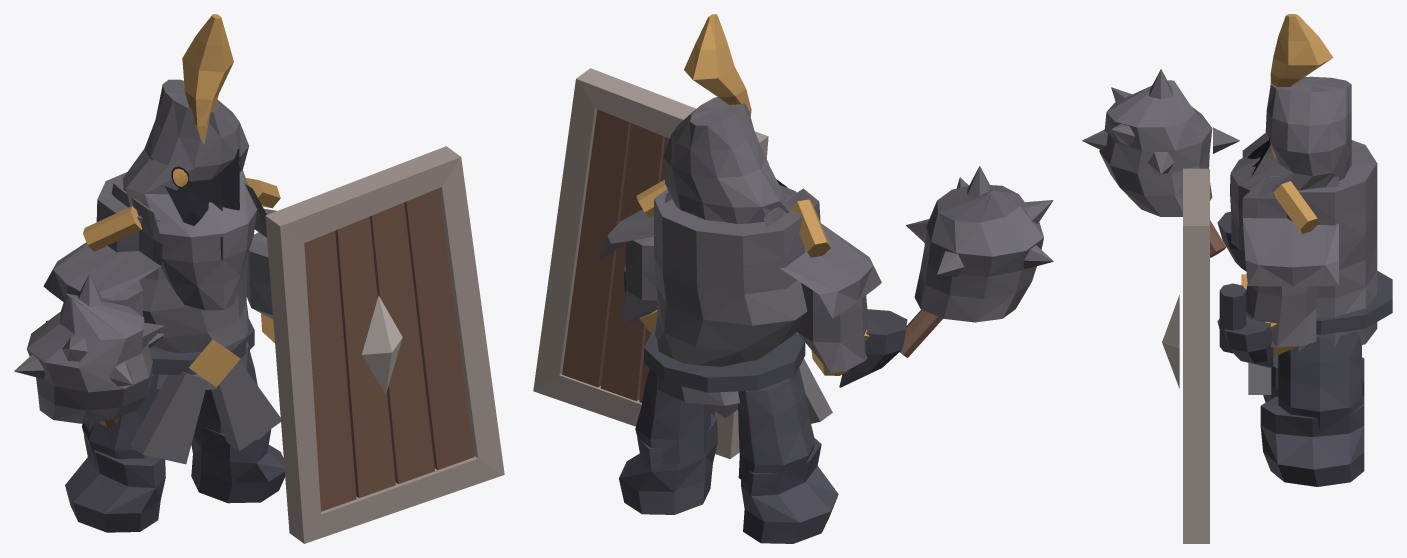
The model's file is guardian-model.glb.
The picture shows the model from 3 angles, left to right: view 1: azimuth 30°, elevation 25°; view 2: azimuth 150°, elevation 25°; view 3: azimuth 270°, elevation 25°; orthographic projection. The views are drawn at different scales.
Parts seen in each view (by area): view 1: ShieldFrame, Helmet, MaceHead, ShieldPlank.4, ShieldPlank.3, ShieldPlank.1, ShieldPlank.2, Breastplate, Boot.L, Boot.R, Pauldron.L, Tabard.L (+12 smaller); view 2: Breastplate, ShieldFrame, MaceHead, Helmet, ShieldPlank.4, ShieldPlank.3, LegArmor.L, Boot.L, Boot.R, Pauldron.L, Belt, LegArmor.R (+8 smaller); view 3: Helmet, ShieldFrame, MaceHead, Breastplate, Pauldron.R, Boot.R, LegArmor.R, Forearm.R, GoldenCrest, Belt, Gauntlet.R, ShieldGrip (+8 smaller).
Part boxes in pixels (x1=…): ShieldFrame: x1=265, y1=146, x2=504, y2=543; Helmet: x1=123, y1=79, x2=257, y2=310; MaceHead: x1=27, y1=293, x2=152, y2=423; ShieldPlank.4: x1=404, y1=188, x2=474, y2=470; ShieldPlank.3: x1=369, y1=202, x2=434, y2=483; ShieldPlank.1: x1=304, y1=231, x2=356, y2=511; ShieldPlank.2: x1=335, y1=216, x2=395, y2=498; Breastplate: x1=96, y1=172, x2=249, y2=389; Boot.L: x1=65, y1=435, x2=165, y2=532; Boot.R: x1=191, y1=426, x2=285, y2=503; Pauldron.L: x1=43, y1=183, x2=162, y2=301; Tabard.L: x1=130, y1=371, x2=207, y2=464; Breastplate: x1=654, y1=189, x2=807, y2=405; ShieldFrame: x1=533, y1=68, x2=768, y2=458; MaceHead: x1=914, y1=185, x2=1043, y2=322; Helmet: x1=663, y1=97, x2=796, y2=223; ShieldPlank.4: x1=562, y1=109, x2=630, y2=387; ShieldPlank.3: x1=600, y1=123, x2=664, y2=401; LegArmor.L: x1=738, y1=368, x2=815, y2=483; Boot.L: x1=741, y1=438, x2=838, y2=543; Boot.R: x1=619, y1=413, x2=717, y2=514; Pauldron.L: x1=764, y1=188, x2=881, y2=318; Belt: x1=644, y1=326, x2=805, y2=392; LegArmor.R: x1=635, y1=368, x2=711, y2=463; Helmet: x1=1230, y1=76, x2=1351, y2=250; ShieldFrame: x1=1183, y1=168, x2=1209, y2=543; MaceHead: x1=1099, y1=80, x2=1212, y2=216; Breastplate: x1=1287, y1=140, x2=1377, y2=351; Pauldron.R: x1=1242, y1=176, x2=1338, y2=286; Boot.R: x1=1260, y1=396, x2=1364, y2=486; LegArmor.R: x1=1278, y1=331, x2=1361, y2=430; Forearm.R: x1=1246, y1=285, x2=1316, y2=347; GoldenCrest: x1=1270, y1=14, x2=1333, y2=86; Belt: x1=1316, y1=271, x2=1392, y2=334; Gauntlet.R: x1=1217, y1=315, x2=1273, y2=367; ShieldGrip: x1=1219, y1=283, x2=1246, y2=353.
Bounding box in the file's own units: 1.37 × 1.28 × 0.8077.
